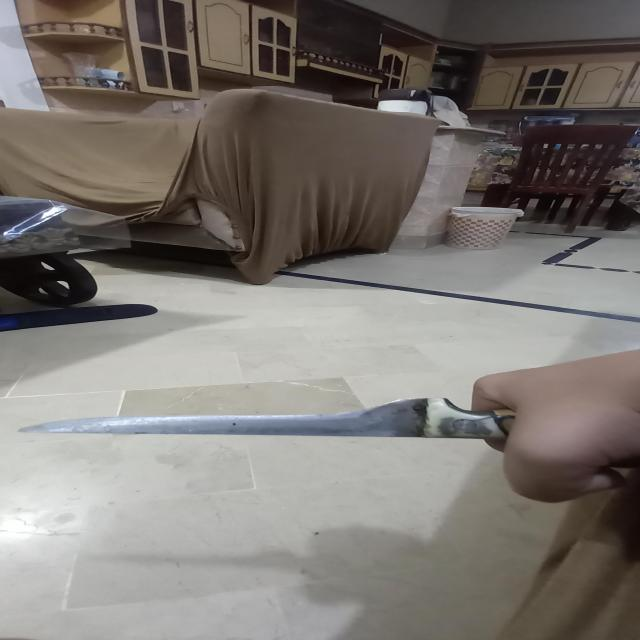Knife: (24, 399, 524, 435)
Person: (479, 346, 640, 503)
